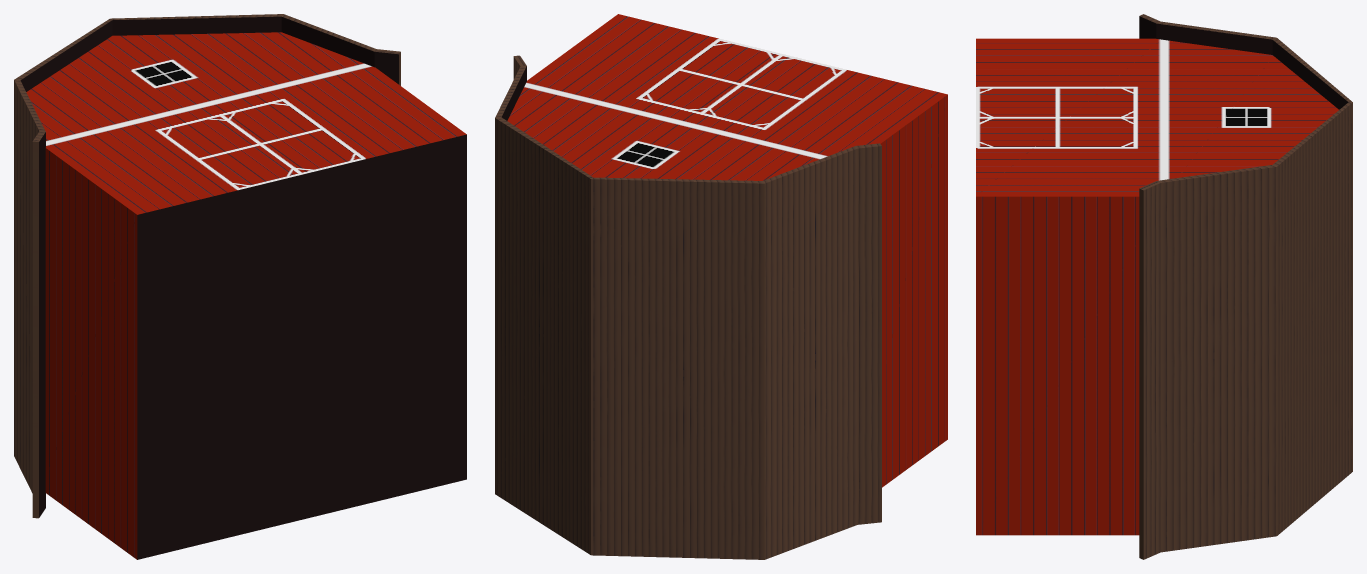
The model's file is szopa.fbx.
3 renders of one model, left to right at view 1: azimuth 30°, elevation 25°; view 2: azimuth 150°, elevation 25°; view 3: azimuth 270°, elevation 25°, orthographic.
Visible parts, largest first — view 1: Cube; view 2: Cube; view 3: Cube.
Boxes of the visible parts, x1=… form: Cube: x1=14, y1=14, x2=466, y2=559; Cube: x1=495, y1=14, x2=947, y2=559; Cube: x1=976, y1=14, x2=1352, y2=559.
Size of the model in its own units: 300 by 324 by 332.
1 material, 1 textured.
